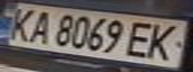0: (66, 13, 90, 51)
6: (87, 15, 112, 53)
8: (48, 11, 75, 47)
9: (103, 17, 130, 55)
A: (21, 8, 57, 45)
E: (121, 19, 163, 60)
K: (139, 21, 190, 62), (0, 4, 42, 43)
